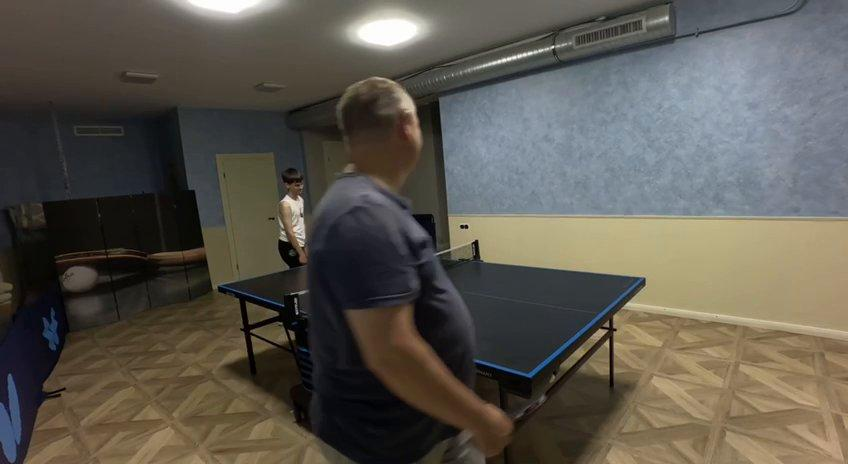Player1: (276, 168, 305, 268)
Player2: (308, 77, 511, 463)
